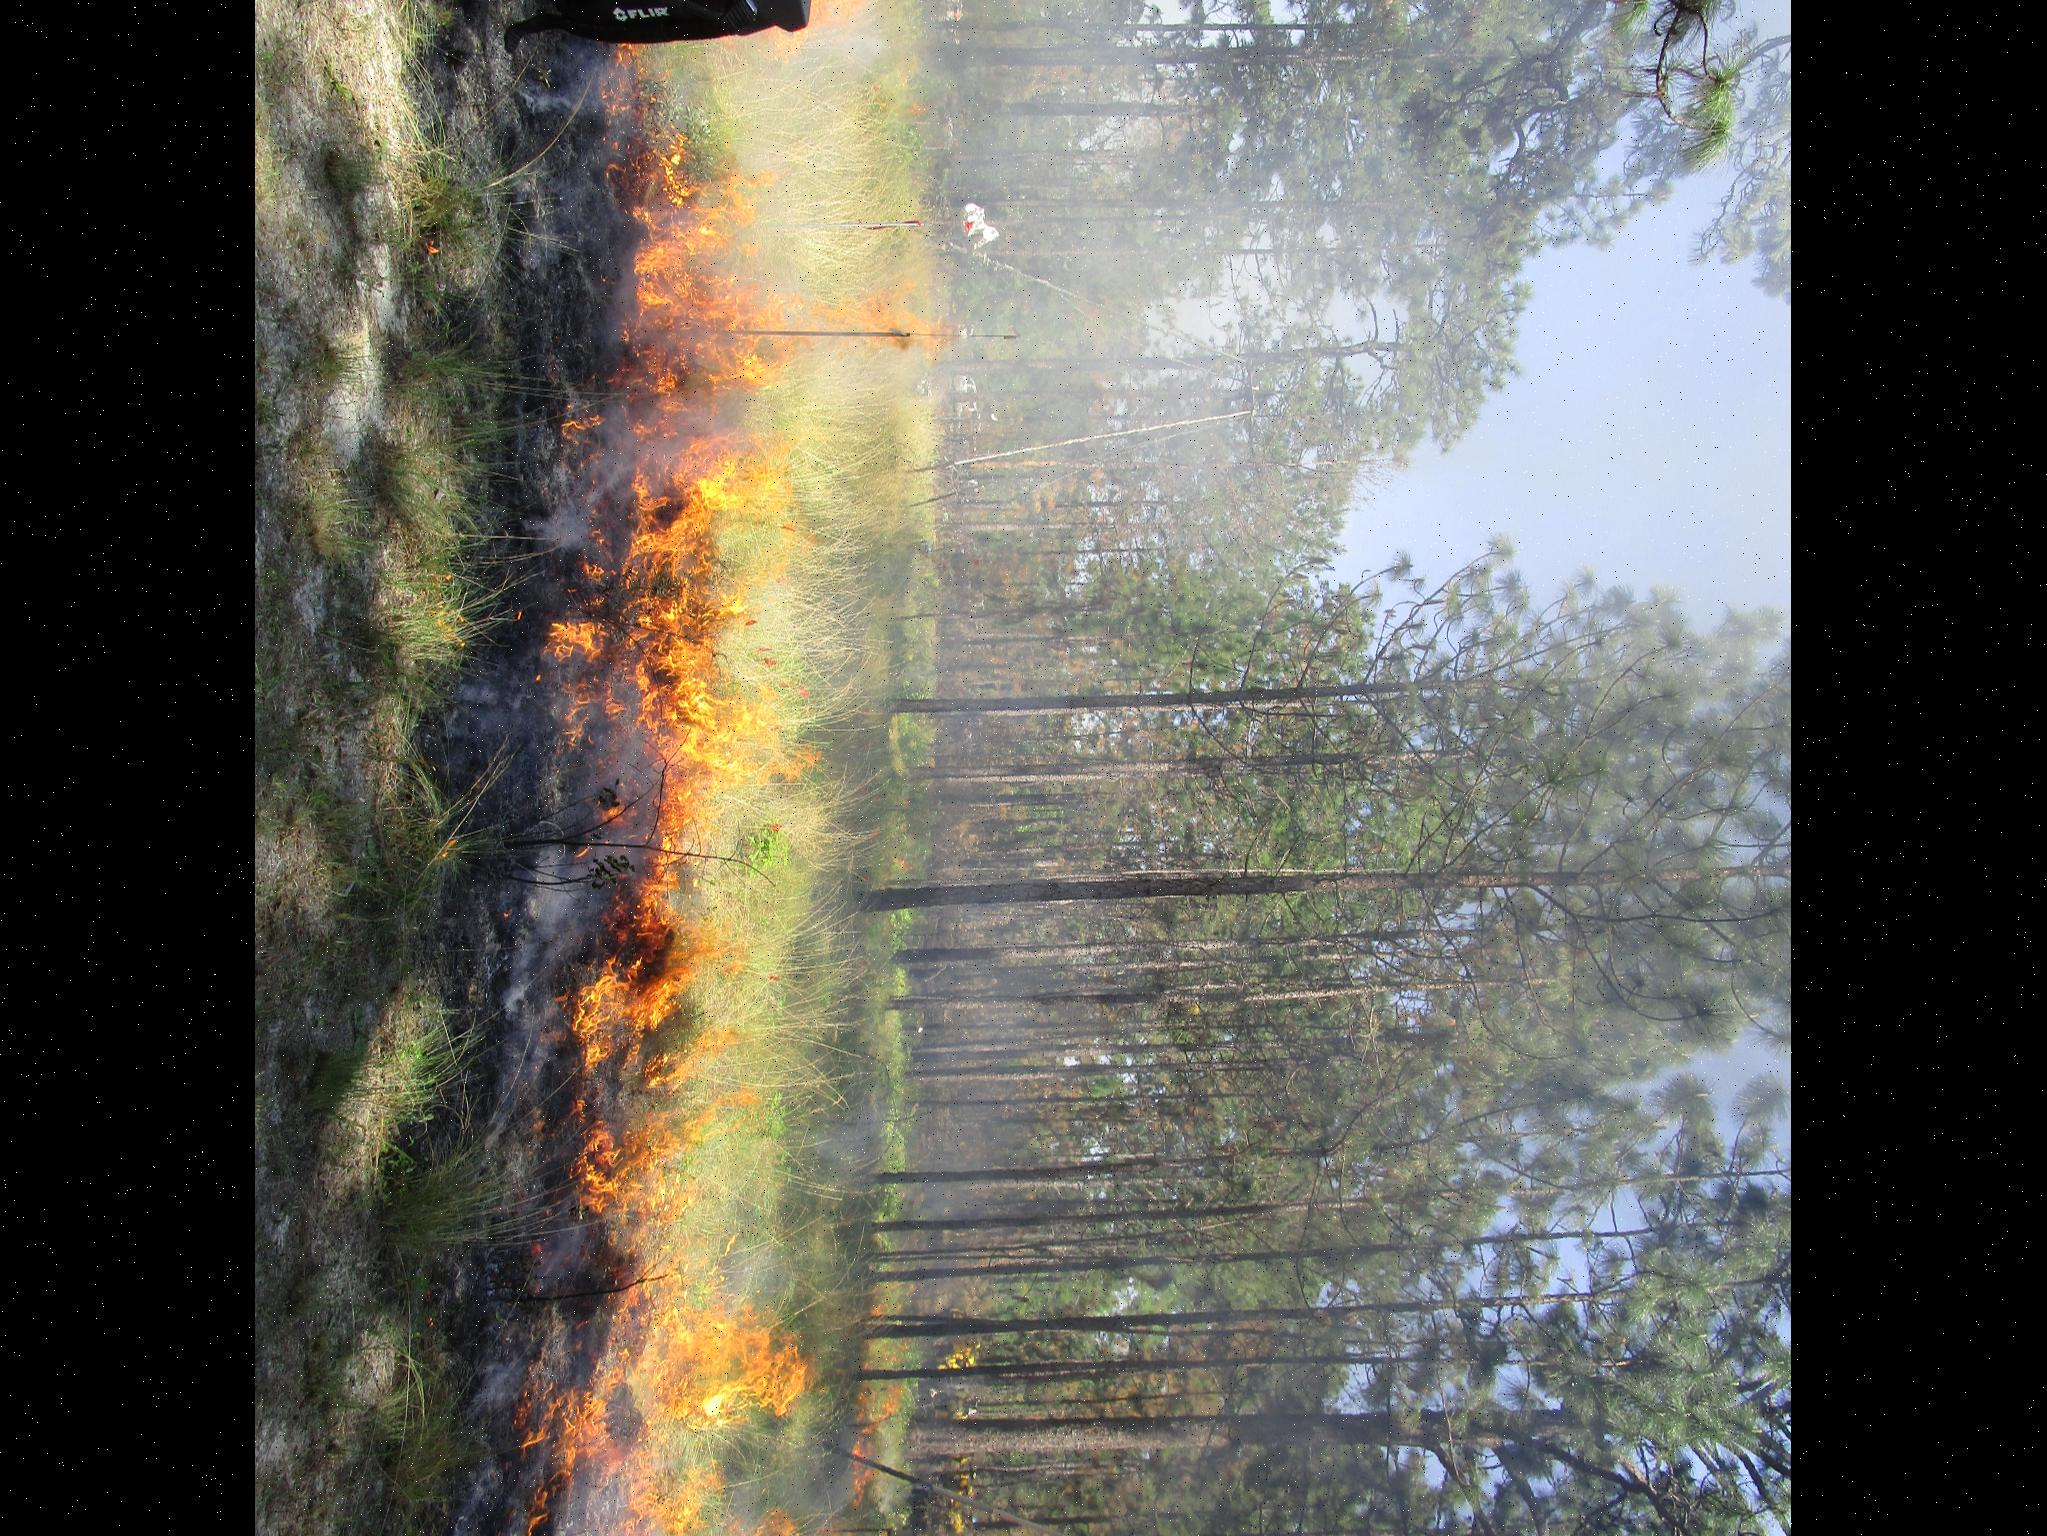fire: (434, 90, 836, 1536)
